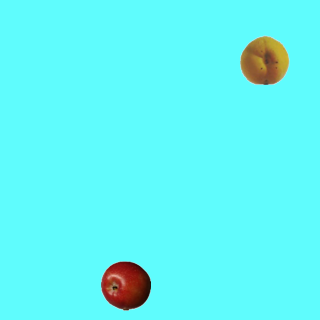Apple Braeburn: (100, 260, 150, 310)
Peach 2: (239, 34, 289, 84)
